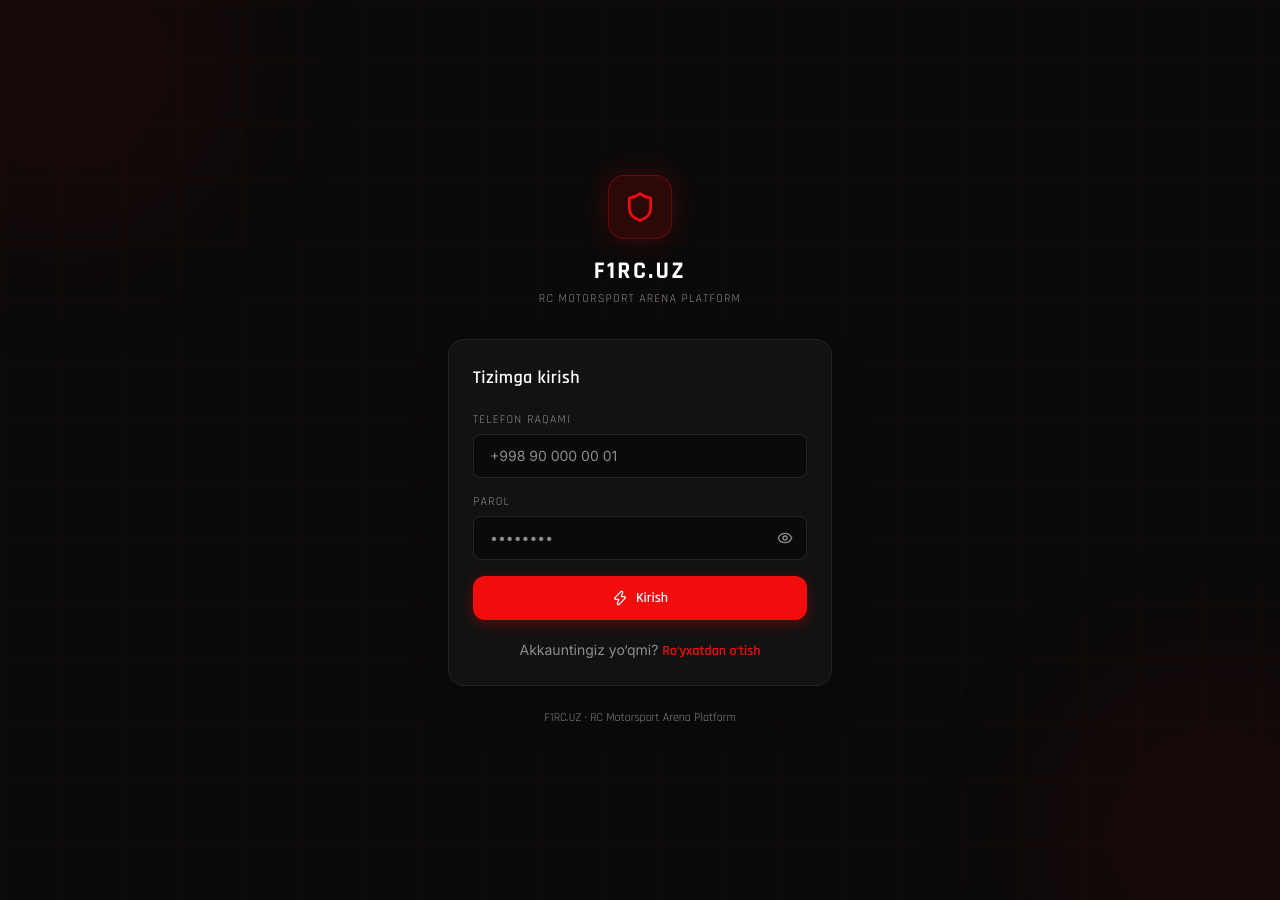
it: Login Form tests › displays API error message on login failure
Type "+998901234567" into the field labelled "Telefon raqami" at (640, 456), box [473,434,807,478]
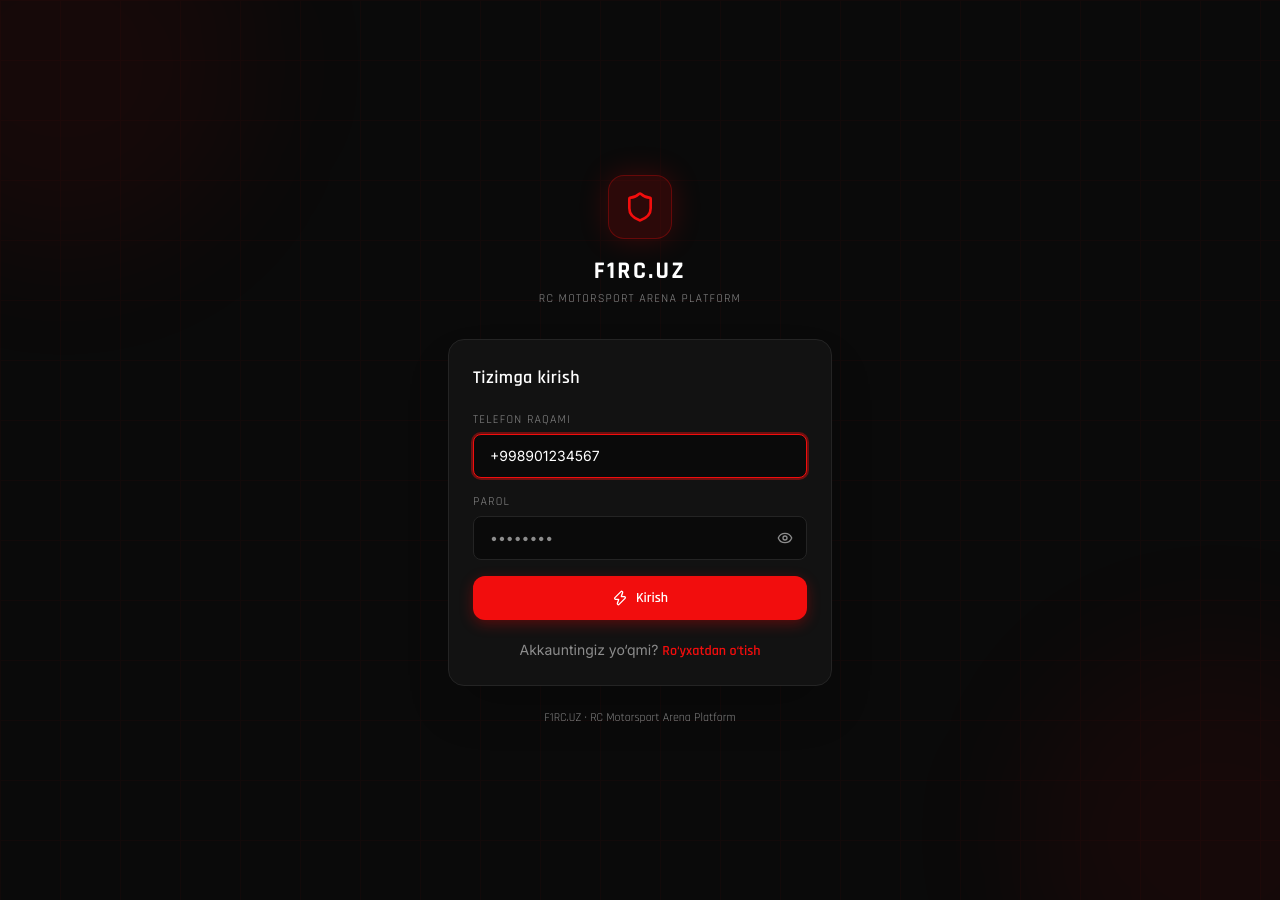
Type "wrongpass" into the password field labelled "Parol" at (640, 538), box [473,516,807,560]
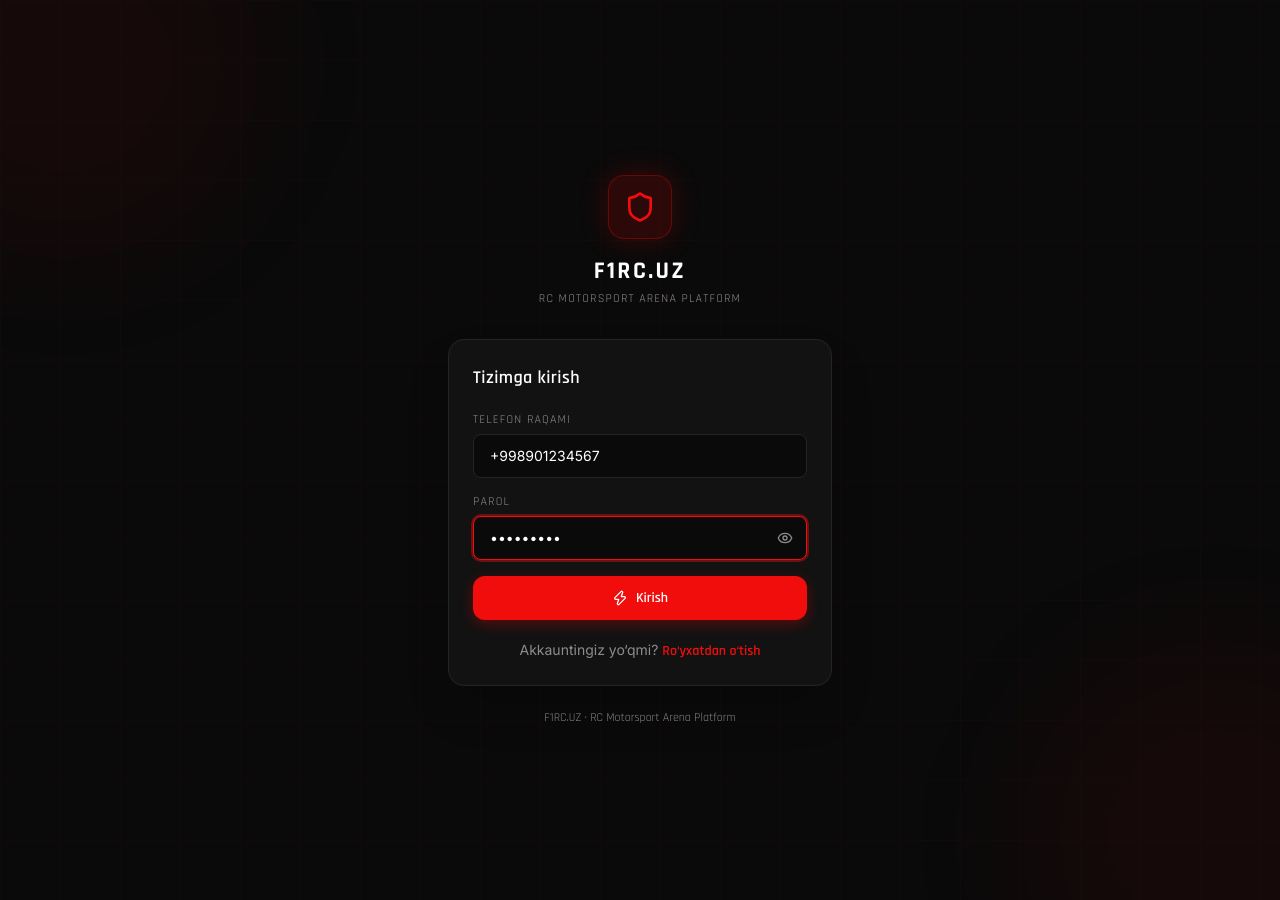
Click the button "Kirish" at (640, 598), box [473,576,807,620]
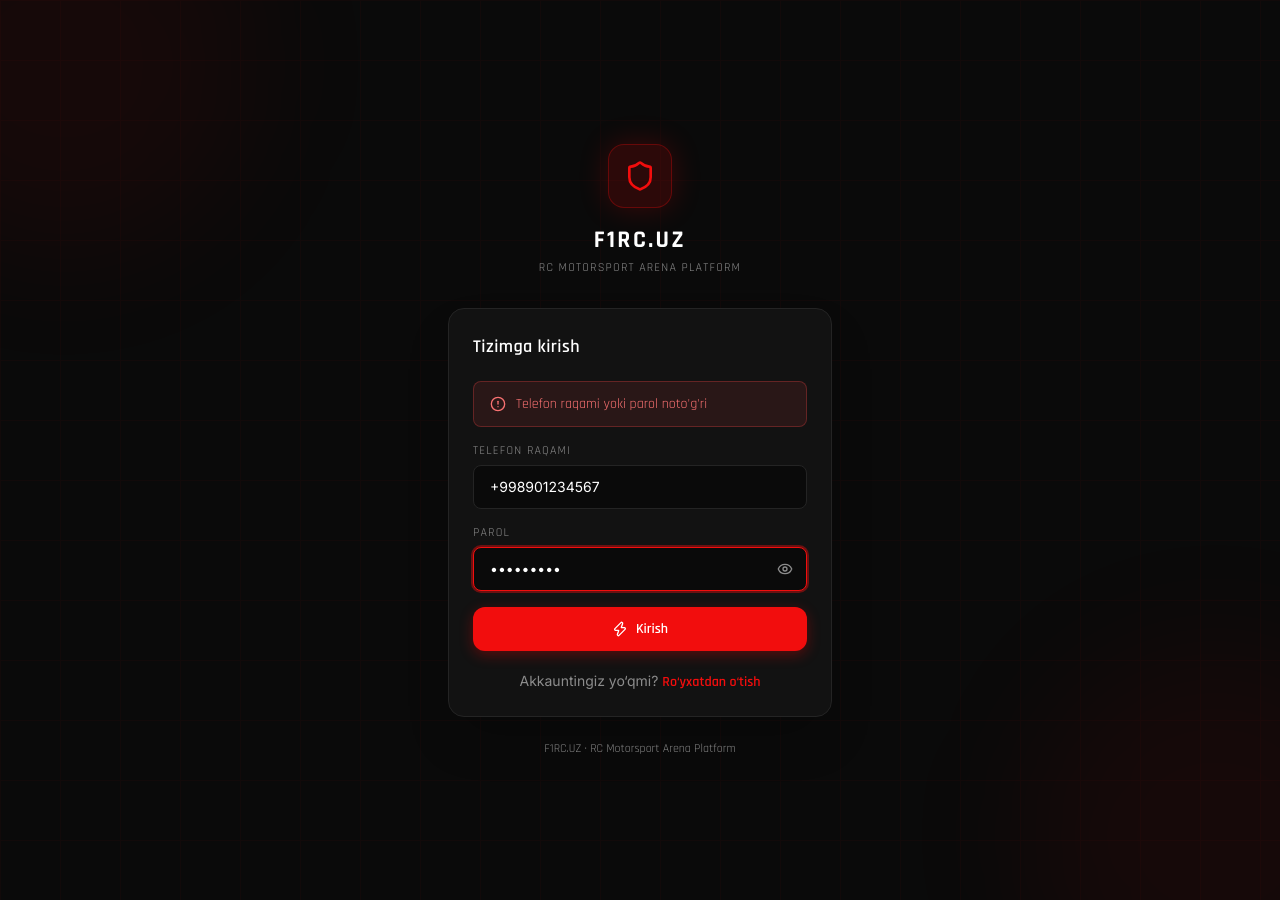
Result: the text "Telefon raqami yoki parol noto'g'ri" is shown at [516,394,707,414]
